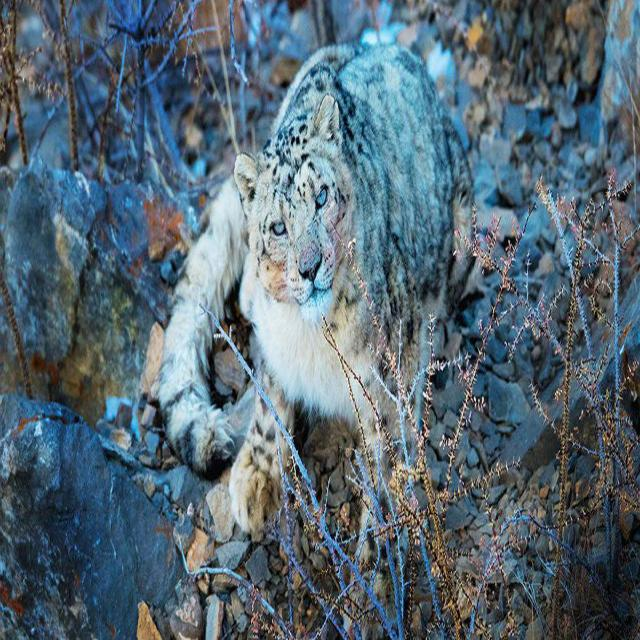Leopard: (168, 46, 467, 507)
